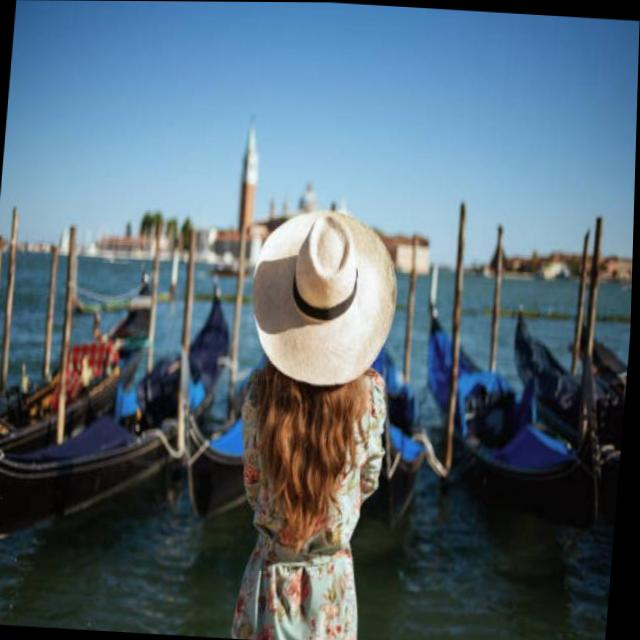no helmet: (239, 204, 412, 438)
